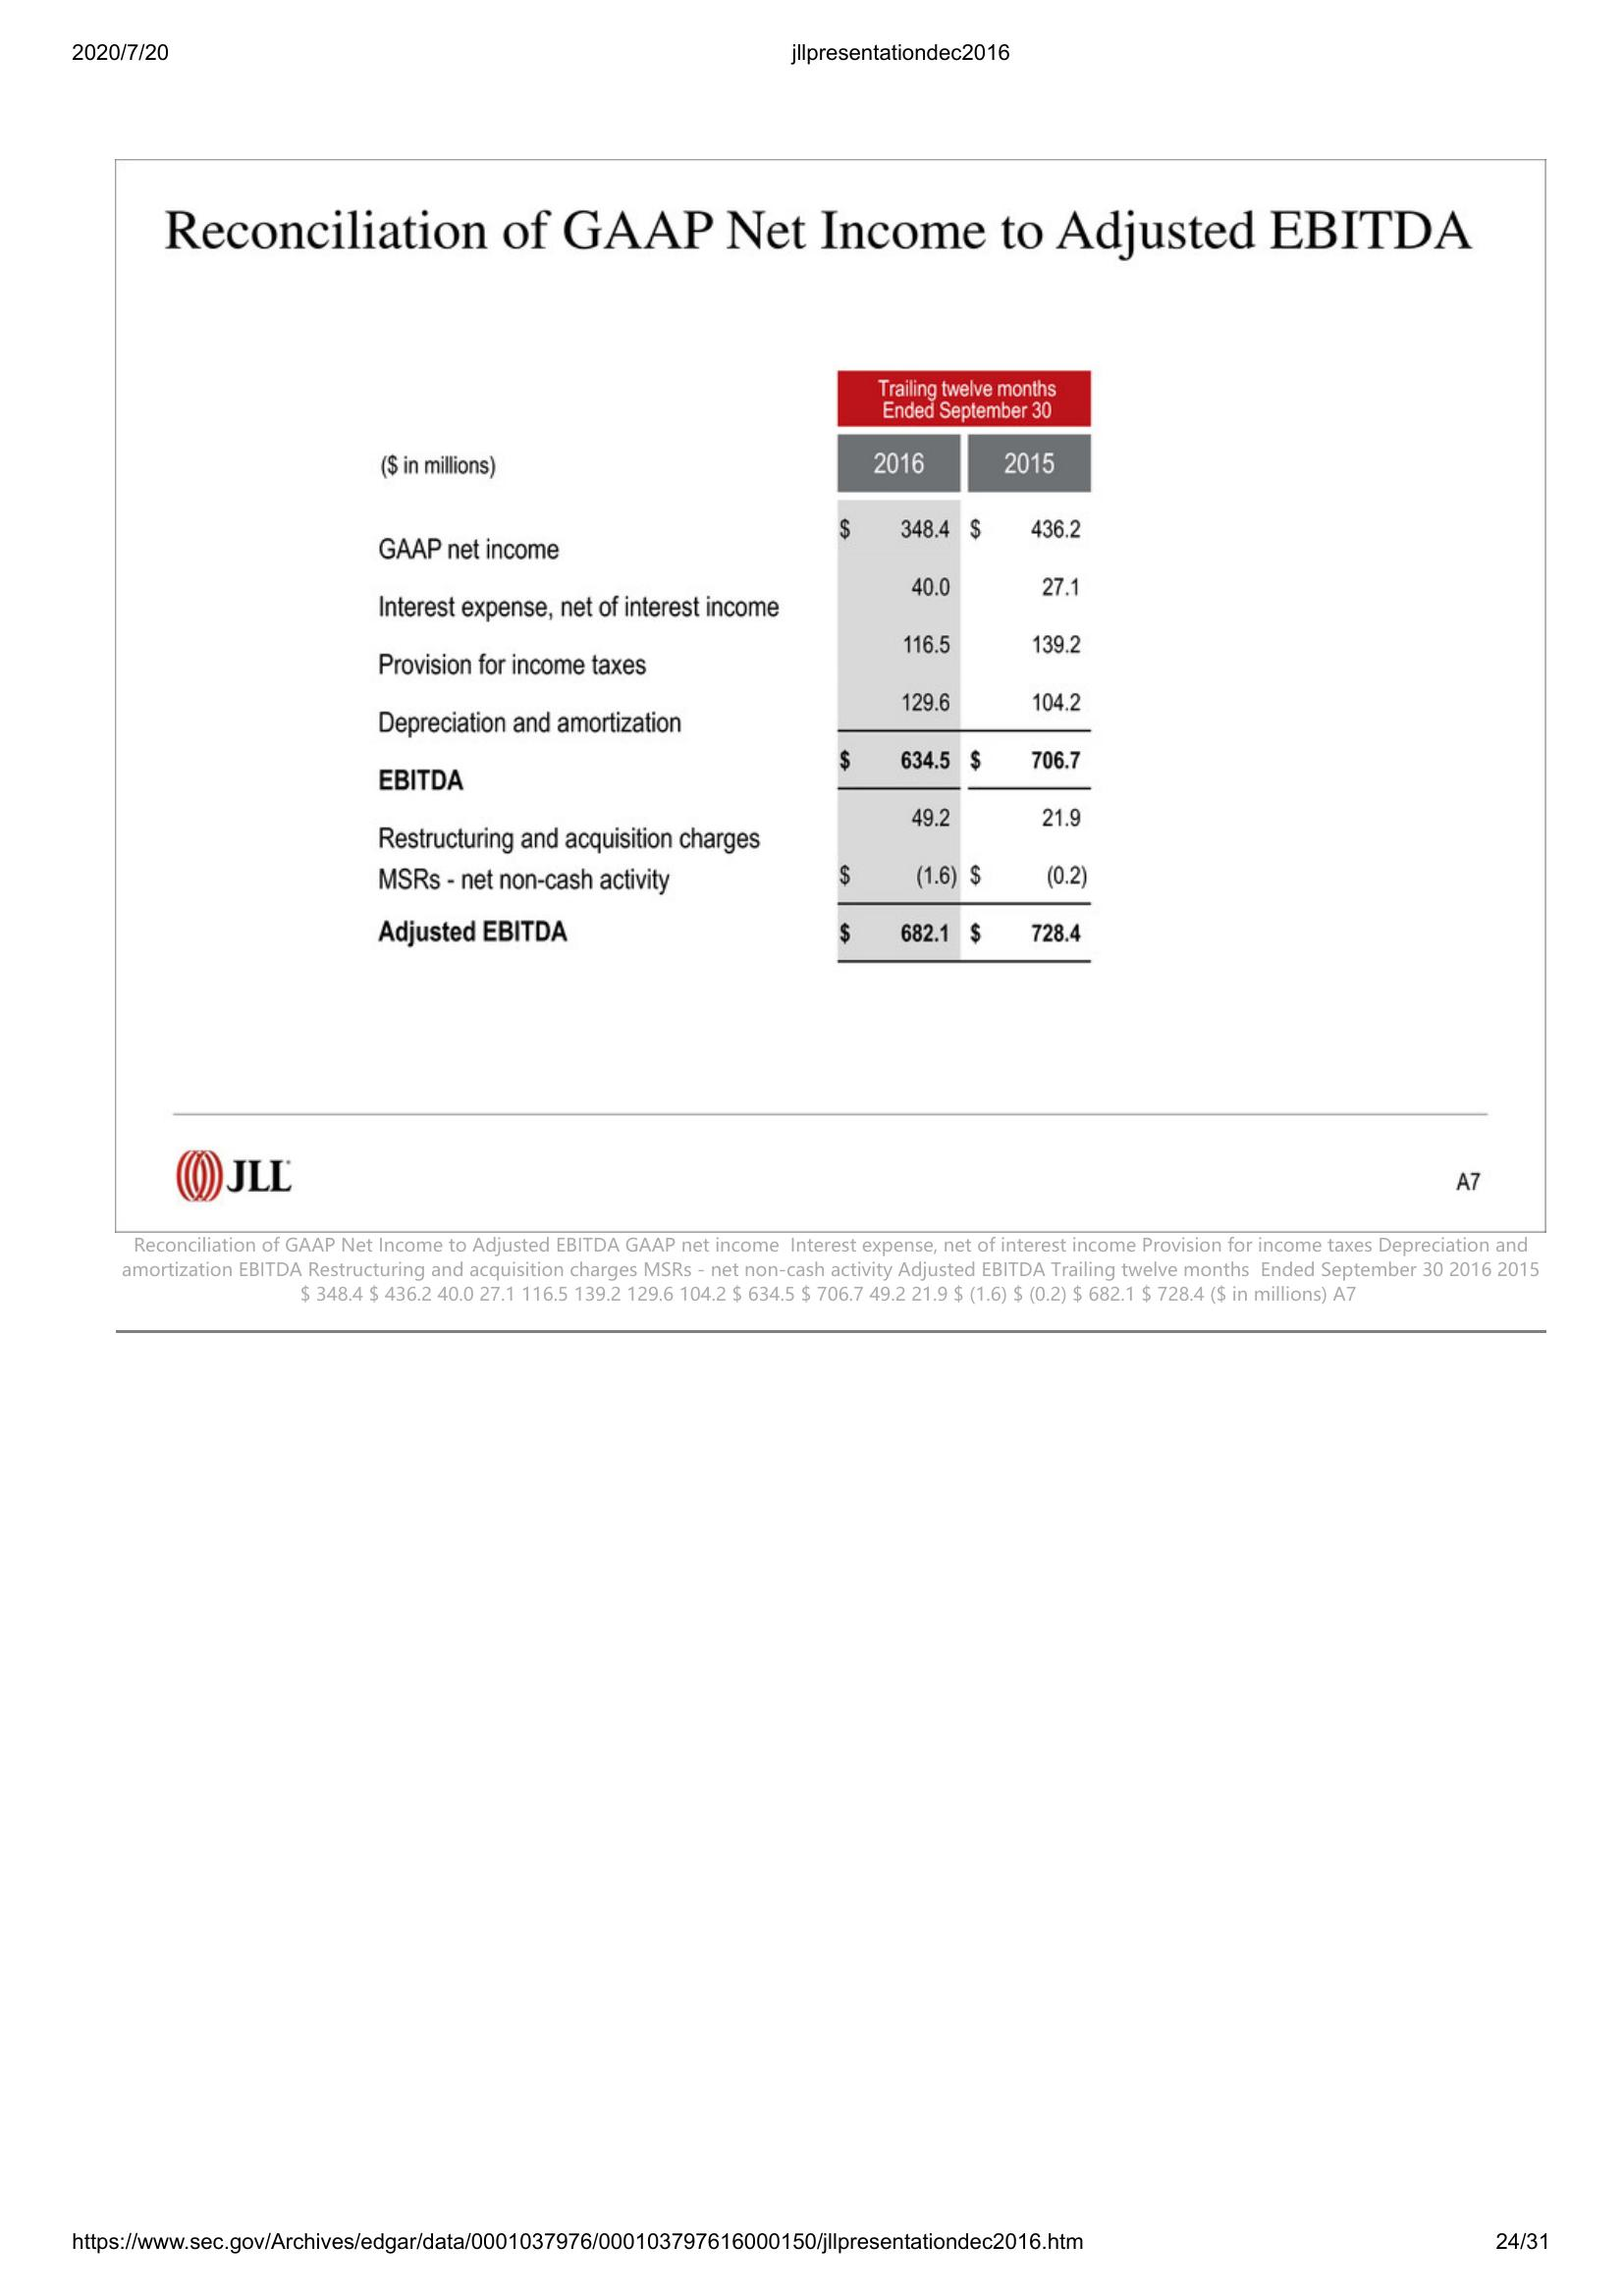table: (365, 362, 1093, 972)
